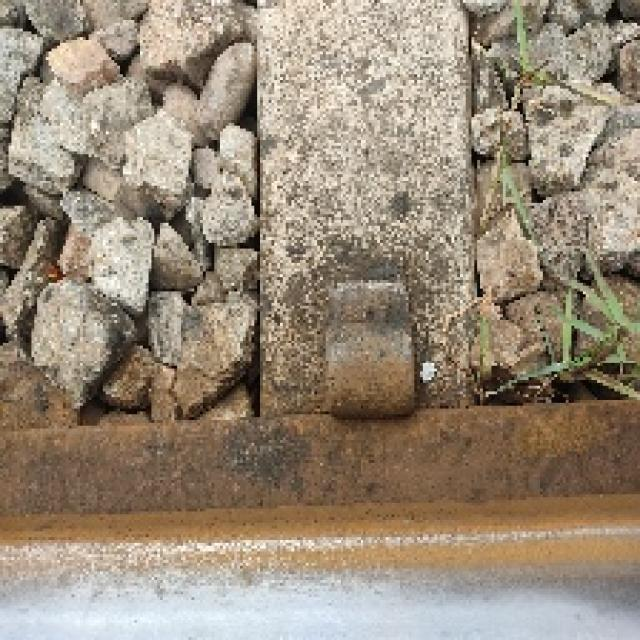Missing Fastener: (287, 247, 441, 464)
